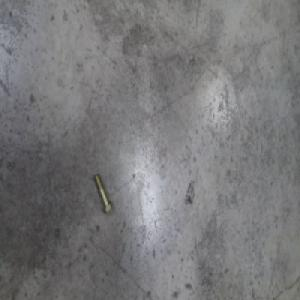Bolt: (92, 170, 112, 214)
